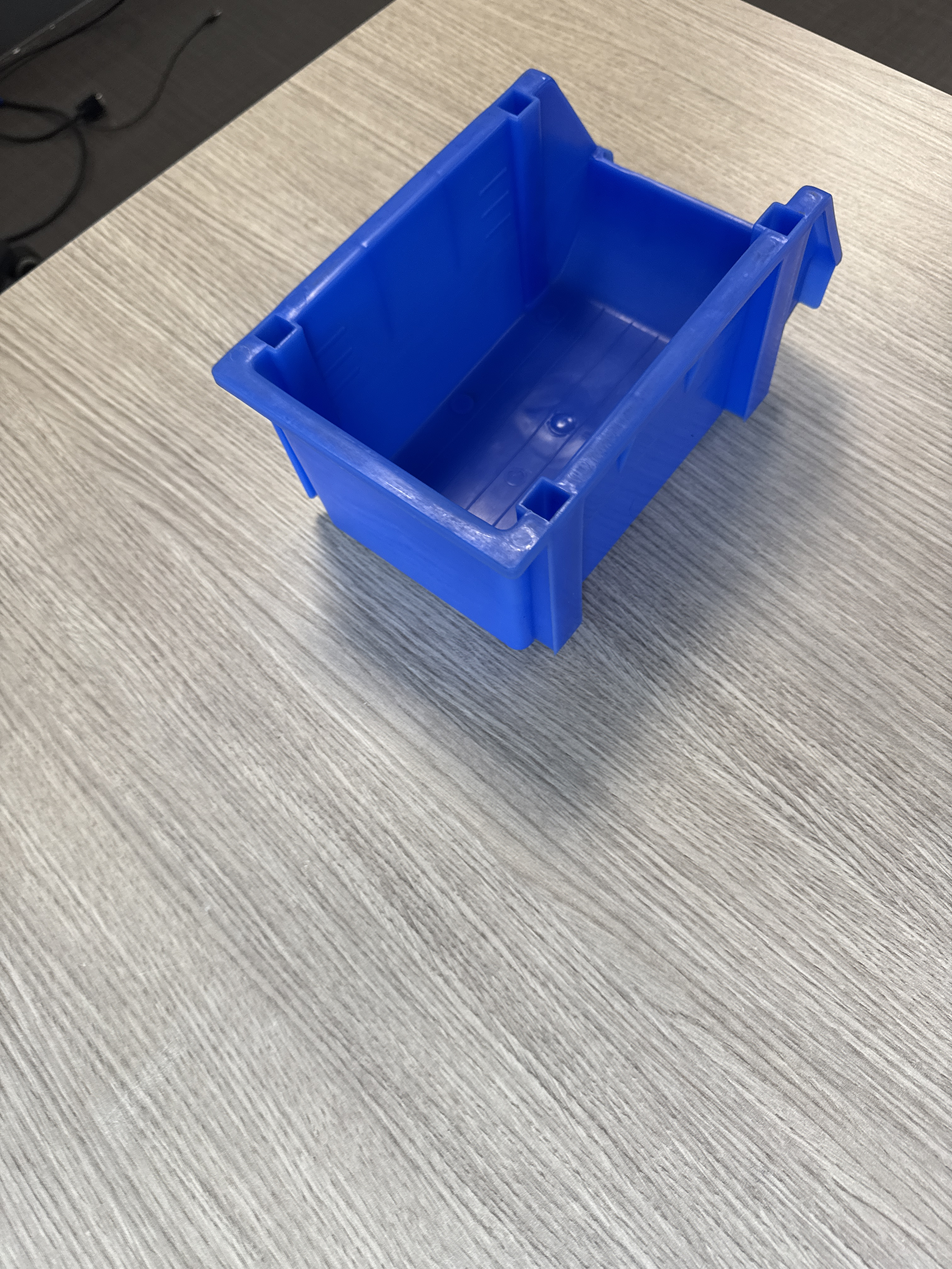Bin Boundary: (255, 49, 786, 575)
